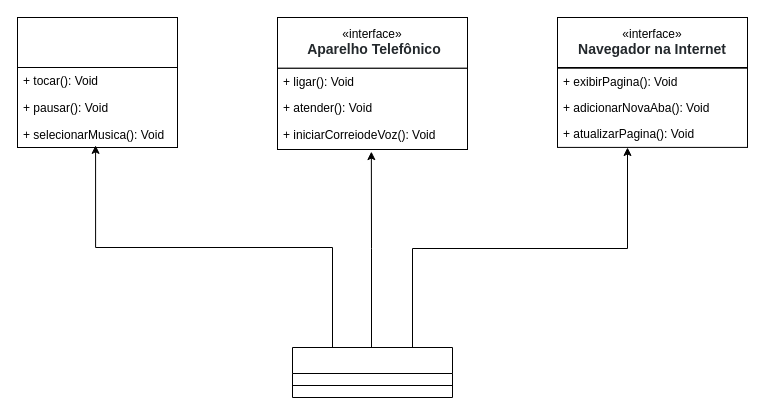
Some shapes in this 765 by 415 pixel diagram are drawn without their labels. Each missing label, with the centre of its shape:
"Iphone" belongs at (372,372).
"«interface» Reprodutor Musical" belongs at (97,42).
